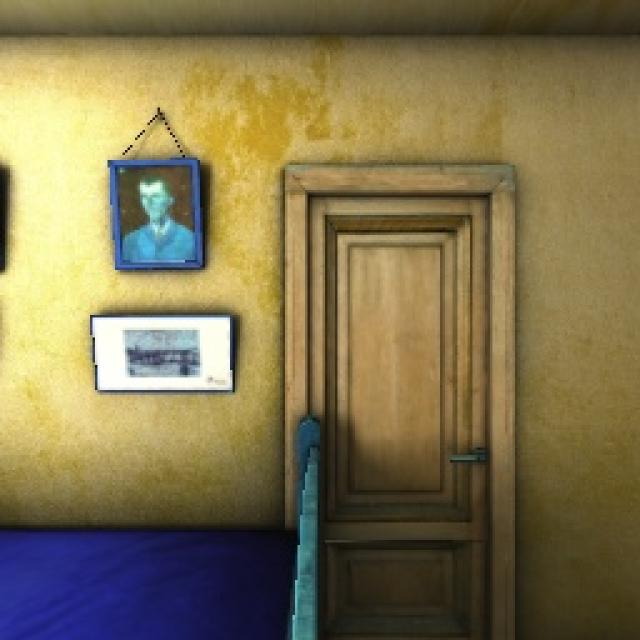door: (281, 161, 522, 640)
